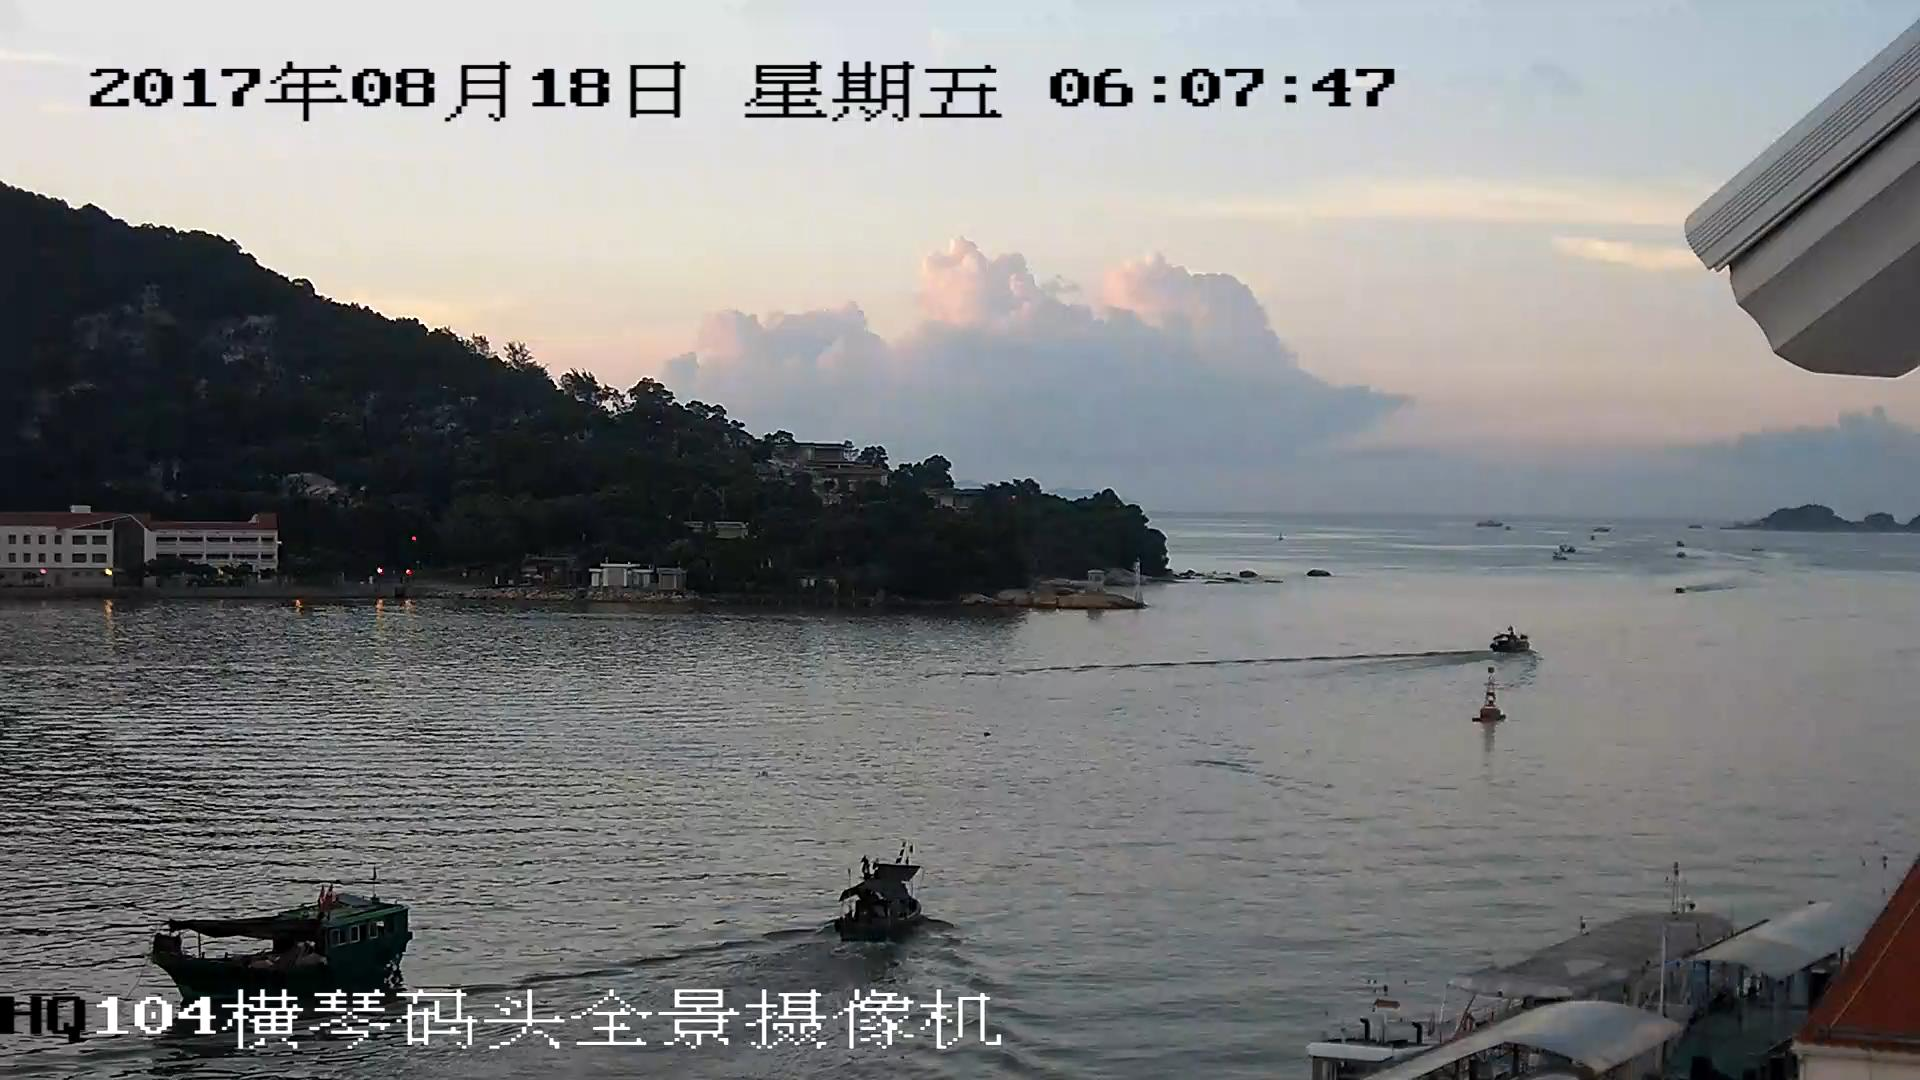fishing boat: (147, 894, 411, 995), (830, 856, 923, 944)
